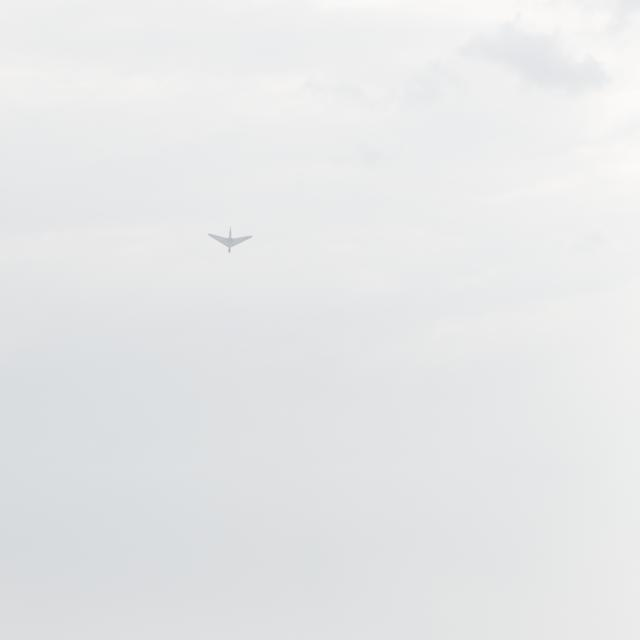Airaplan: (208, 226, 252, 253)
